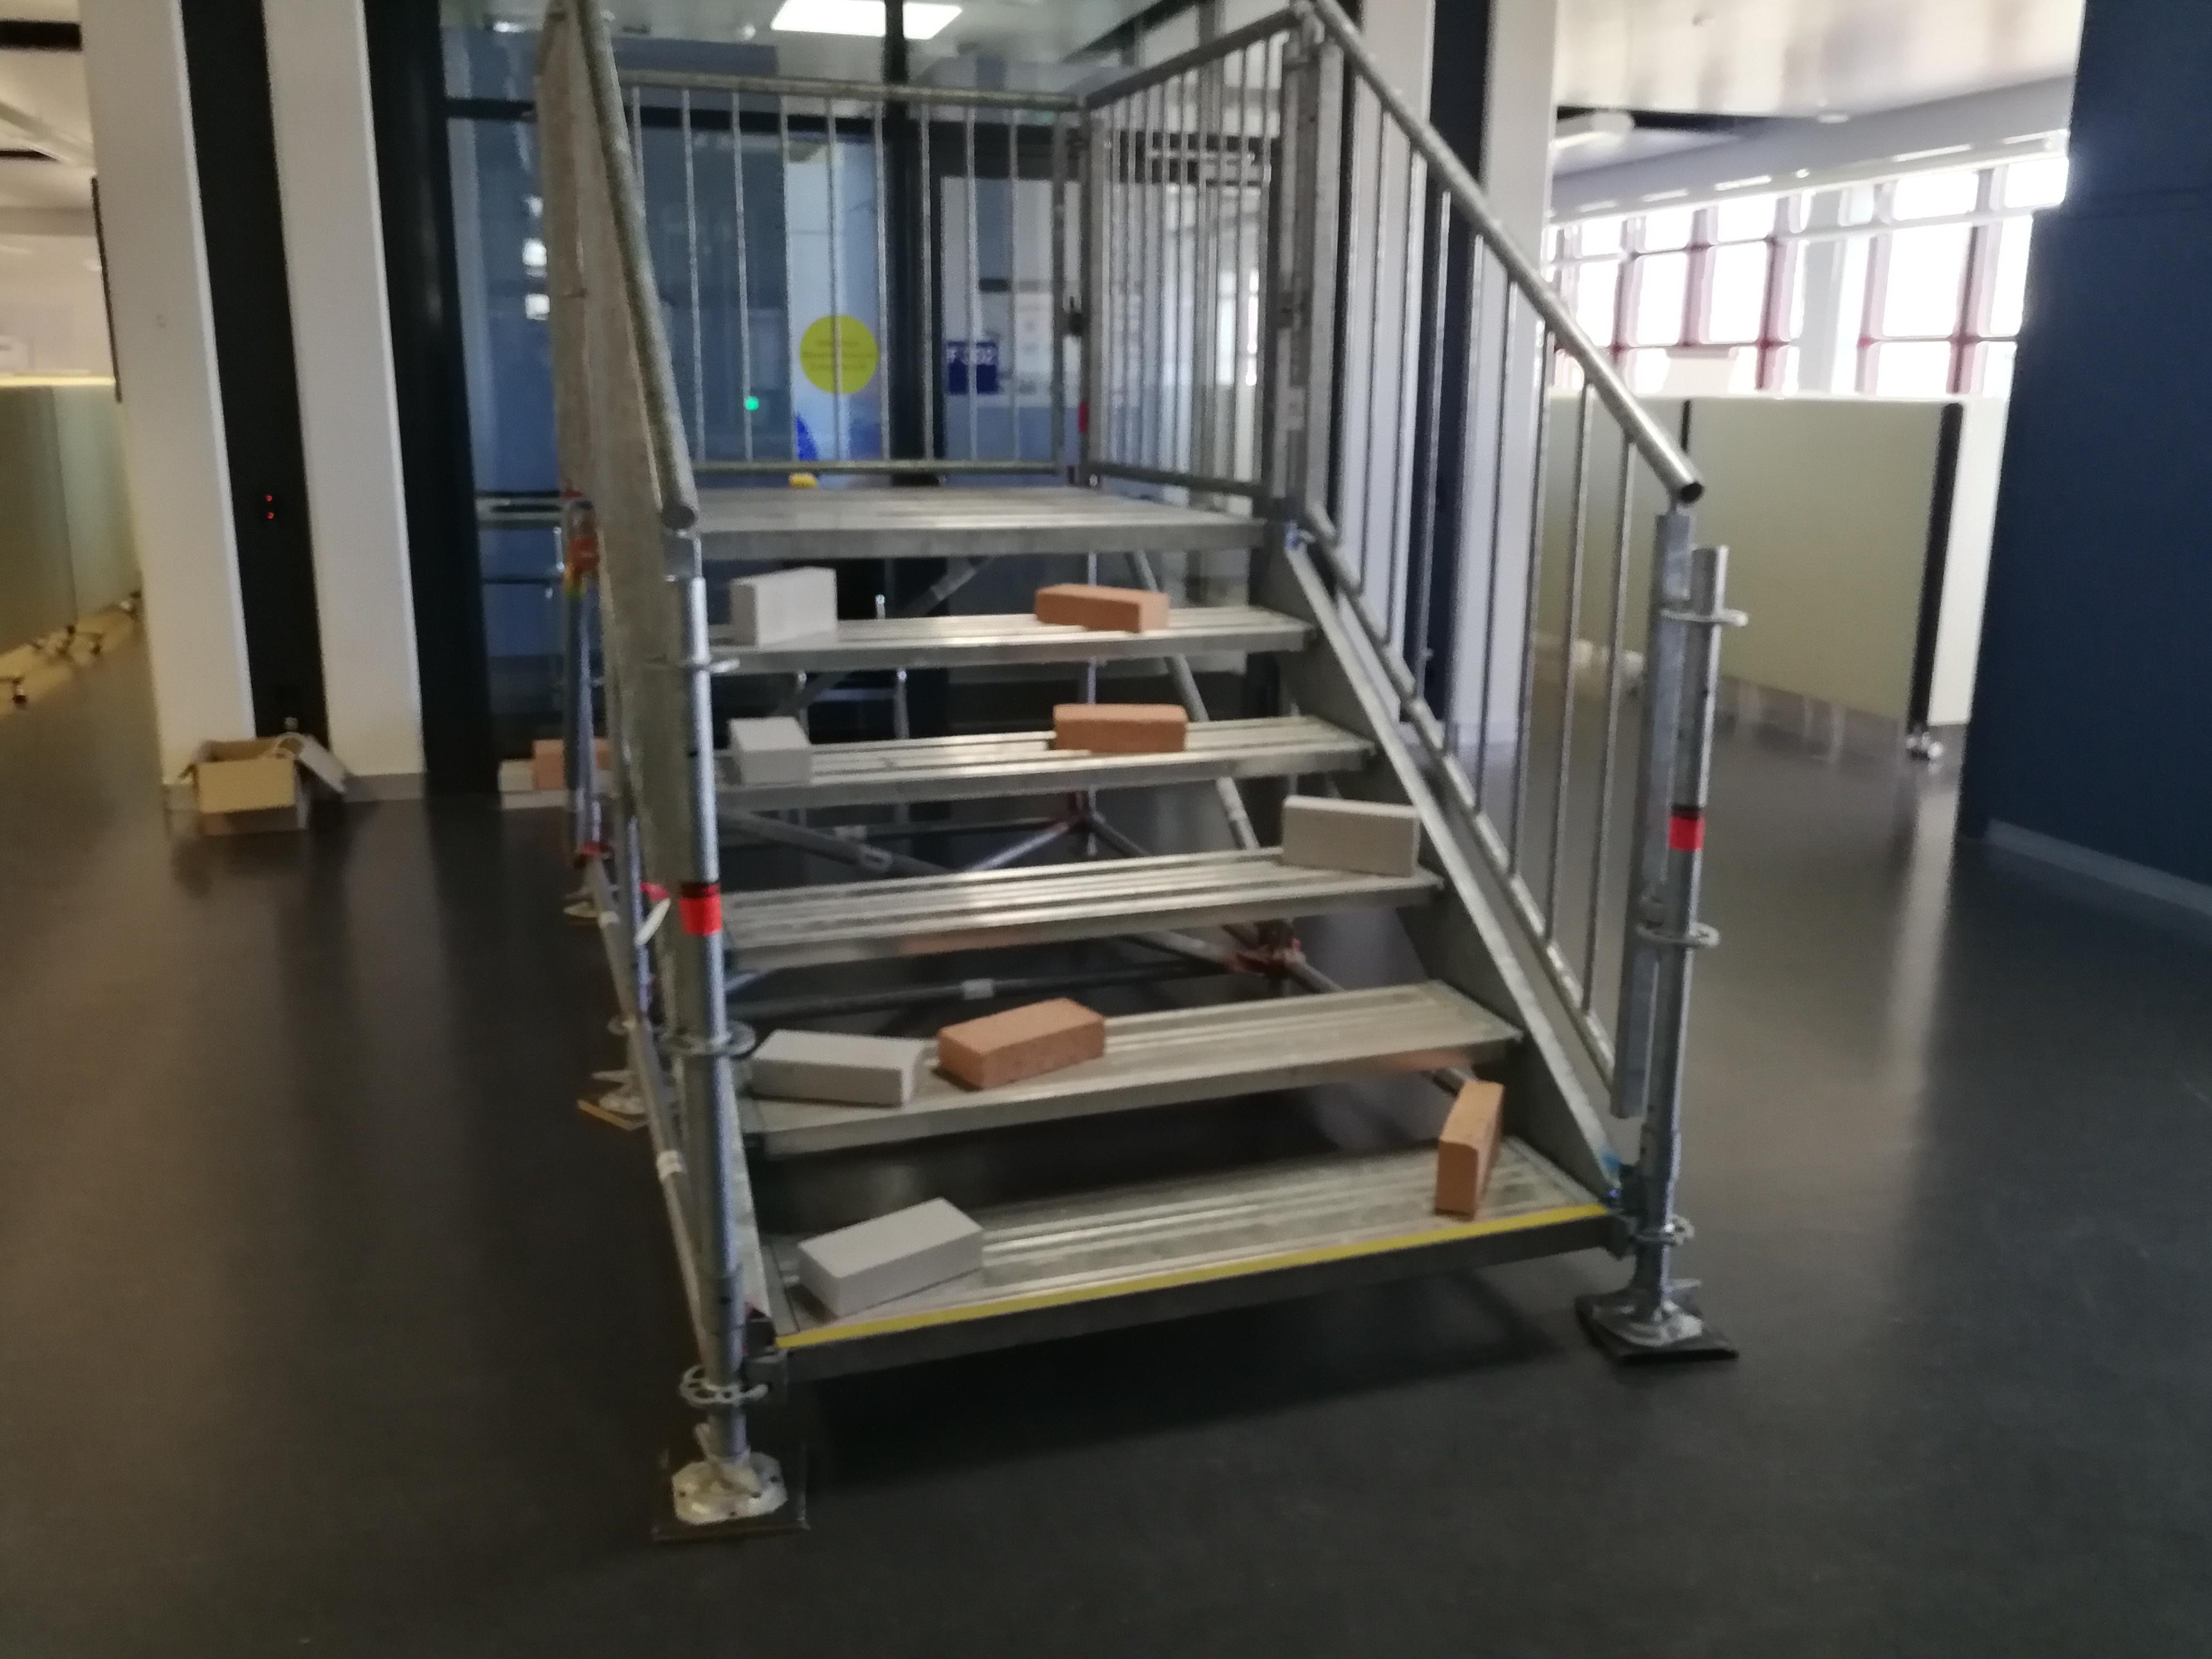brick: (801, 1199, 979, 1310), (942, 1002, 1106, 1086), (754, 1026, 927, 1101), (1280, 795, 1418, 878), (1433, 1084, 1503, 1216), (730, 566, 833, 645), (1050, 702, 1186, 758), (1035, 584, 1167, 627), (730, 720, 812, 788)
edge: (782, 1213, 1609, 1380), (744, 1035, 1533, 1154), (725, 882, 1449, 965), (714, 739, 1371, 812), (733, 627, 1322, 671), (685, 521, 1278, 558)
stairs: (646, 35, 1738, 1539)
steps: (681, 500, 1616, 1394)
